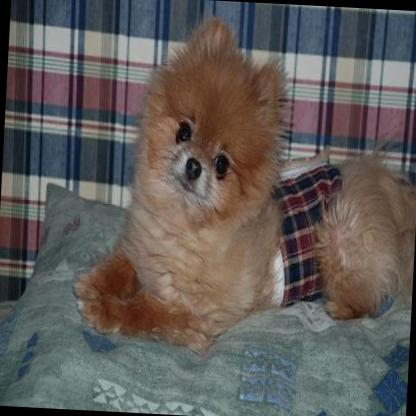Pomeranian: (71, 9, 416, 364)
